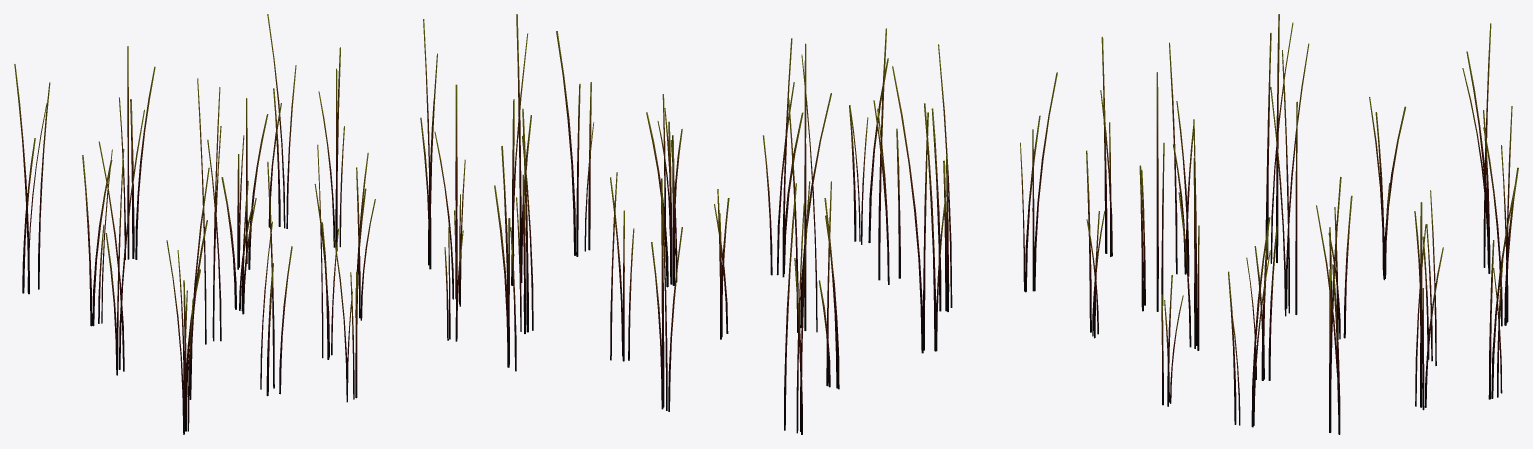
Rendered from patch_bamboo_wall_far.glb.
3 views of the same model, side by side, from view 1: azimuth 30°, elevation 25°; view 2: azimuth 150°, elevation 25°; view 3: azimuth 270°, elevation 25° (orthographic). The views are drawn at different scales.
Visible parts, largest first — view 1: patch_bamboo_wall_far; view 2: patch_bamboo_wall_far; view 3: patch_bamboo_wall_far.
Boxes of the visible parts, <box> form: patch_bamboo_wall_far: <box>14,14,465,434</box>; patch_bamboo_wall_far: <box>494,14,1057,434</box>; patch_bamboo_wall_far: <box>1086,14,1518,434</box>.
Size of the model in its own units: 14.78 by 9.57 by 14.1.
Materials: 1 (1 with a texture image).
